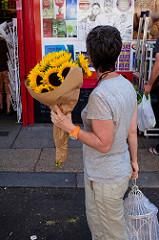sunflower: (42, 66, 65, 88), (29, 70, 47, 92), (60, 63, 73, 78)
